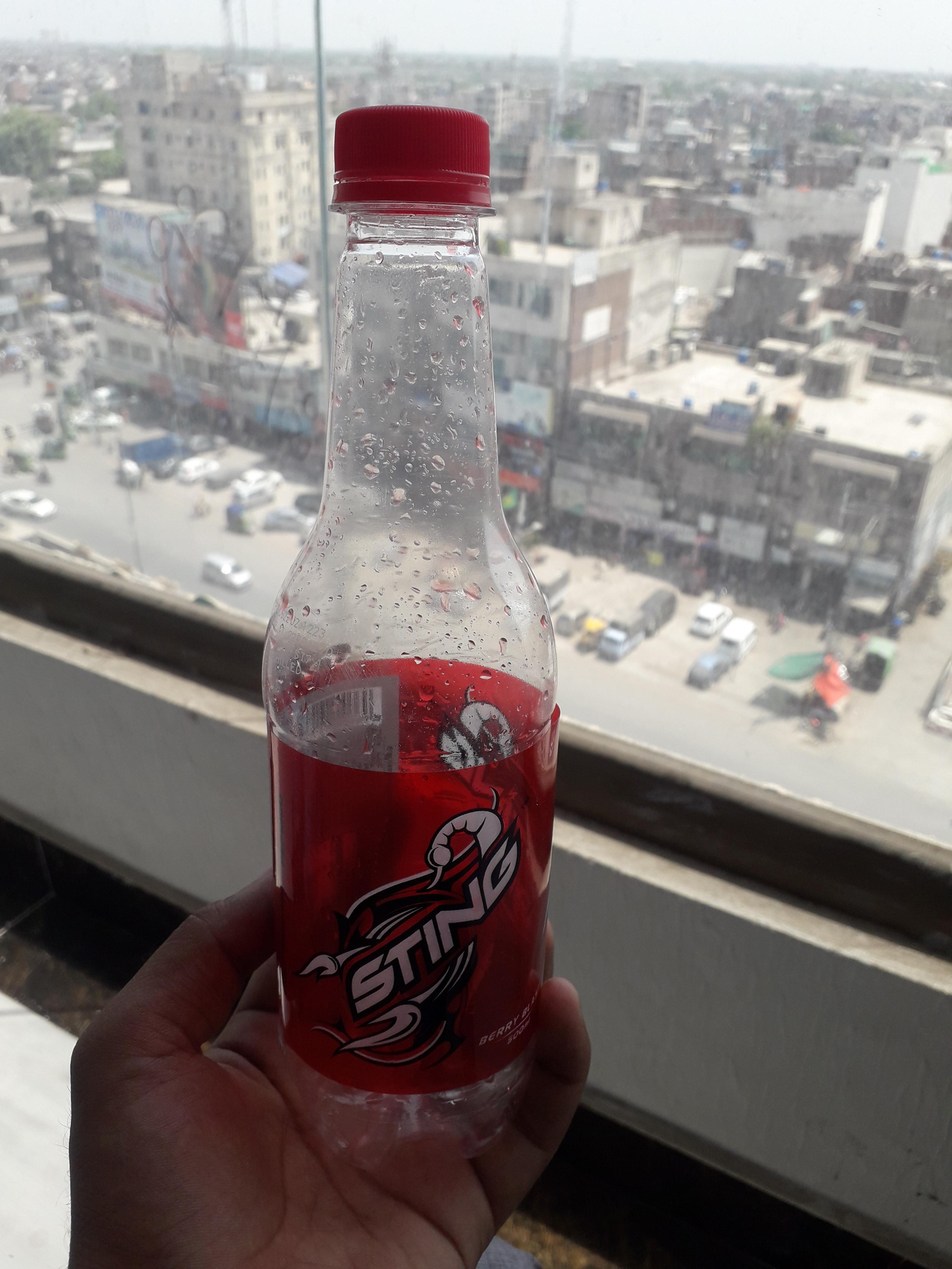bottle-plastic: (261, 101, 573, 1182)
